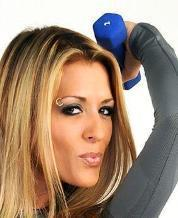face: (61, 94, 112, 170)
